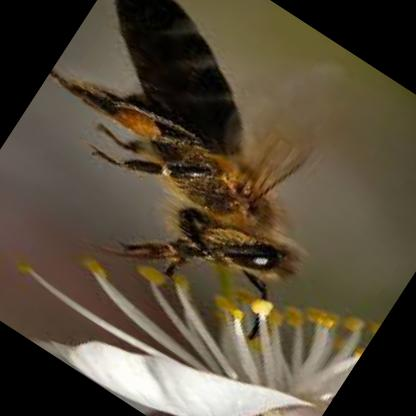other: (0, 0, 399, 346)
